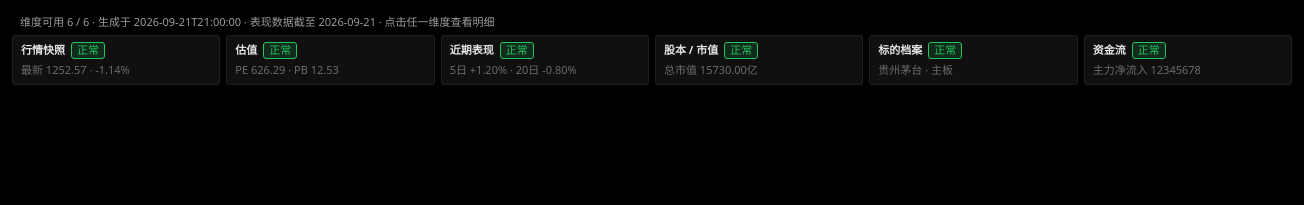
Test: FundamentalsPanel · 6 维一排 + 默认收起 › 点击某一维 → 只展开该维明细；再点 → 收起
The image size is (1304, 205).
Click the button titled "展开「估值」明细": click(330, 60) [226,34,435,85]
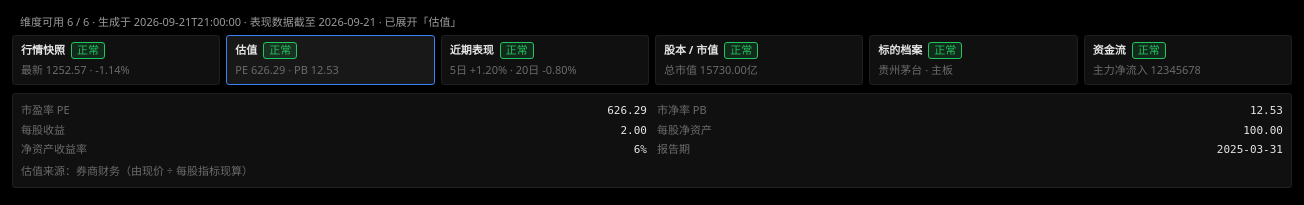
Result: the text "市盈率 PE" is shown at [21,102,70,118]
Result: the text "报告期" is shown at [657,141,690,158]
Result: the text "2025-03-31" is shown at [1217,142,1283,158]
Click the button titled "收起「估值」明细": click(330, 60) [226,34,435,85]
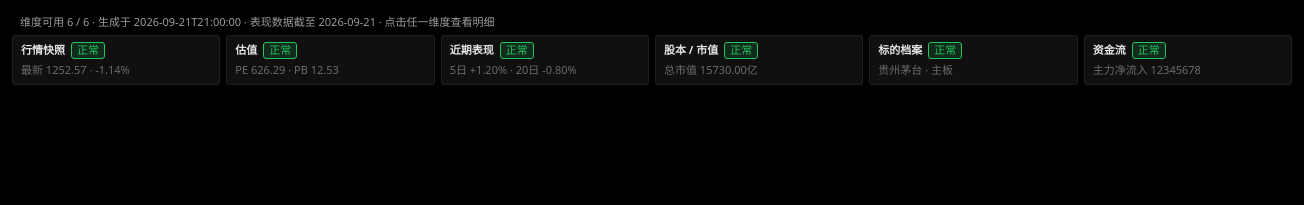
Result: the text "市盈率 PE" is gone
